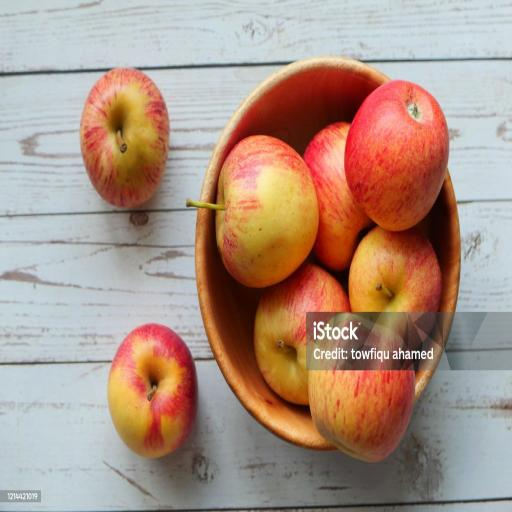apple: (254, 263, 349, 404), (304, 121, 372, 269), (309, 370, 414, 461), (348, 226, 441, 311)
